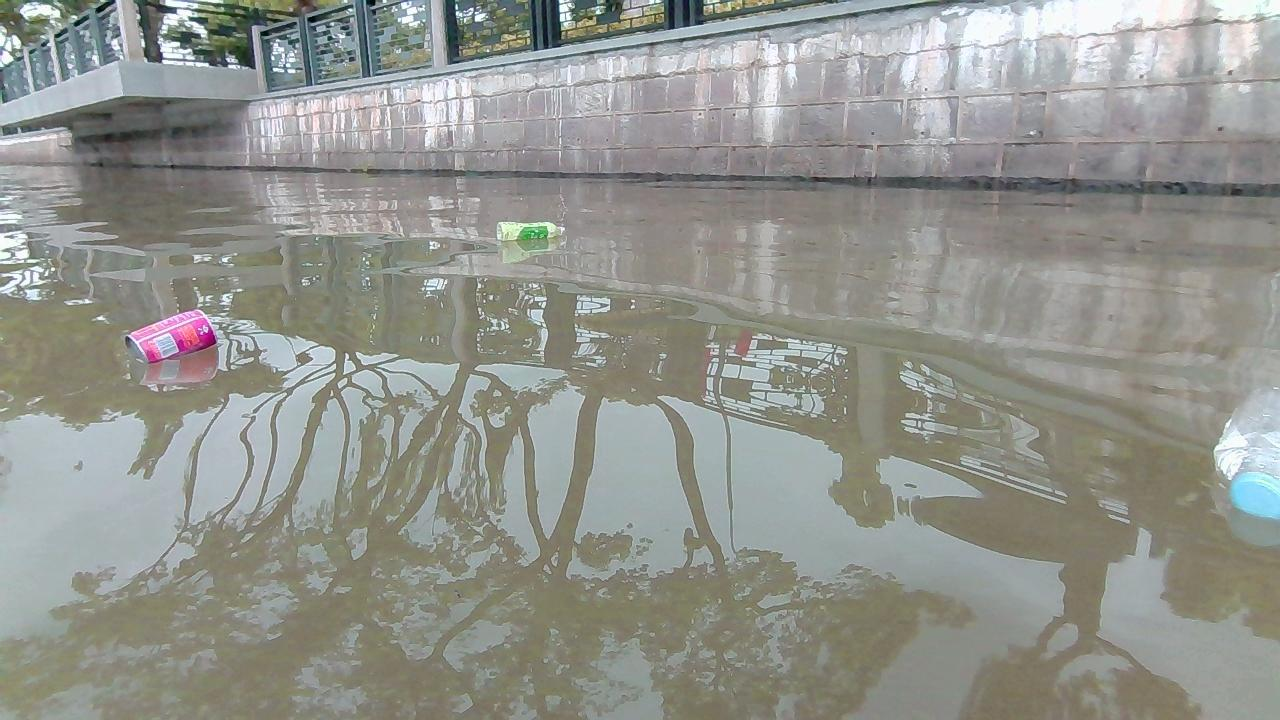Metal: (123, 306, 219, 366)
Plastic: (1211, 379, 1280, 524), (496, 220, 568, 242)
